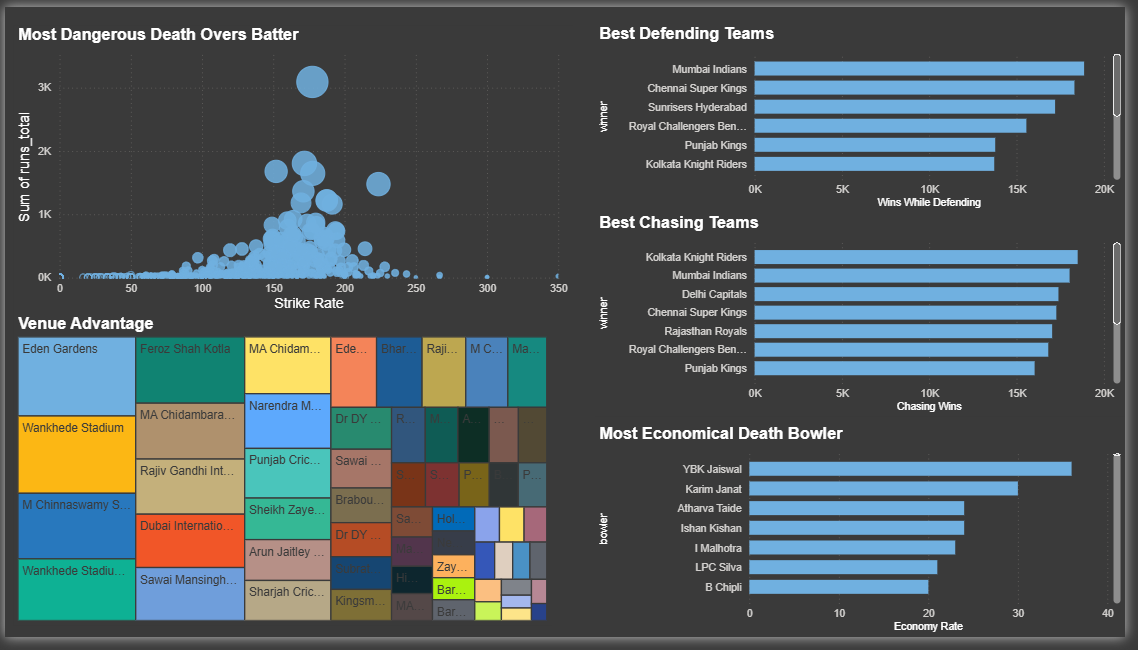

The page's visual inventory and layout, read from the dashboard file:
{"tool":"powerbi","page":{"name":"Hidden Patterns","canvas":[1280,720],"ordinal":5},"visuals":[{"type":"barChart","title":"Best Chasing Teams","fields":{"Y":["IPL_Cleaned.Chasing Wins"],"Category":["IPL_Cleaned.winner"]},"box":[674.2,235.2,605.8,232.3],"z":0},{"type":"treemap","title":"Venue Advantage","fields":{"Values":["CountNonNull(IPL_Cleaned.winner)"],"Group":["IPL_Cleaned.venue"]},"box":[10,352.1,614.3,354.9],"z":1000},{"type":"scatterChart","title":"Most Dangerous Death Overs Batter","fields":{"X":["IPL_Cleaned.Strike Rate"],"Y":["Sum(IPL_Cleaned.runs_total)"],"Size":["IPL_Cleaned.Boundary Count"],"Category":["IPL_Cleaned.batter"]},"box":[10,21.4,638.6,330.7],"z":2000},{"type":"barChart","title":"Most Economical Death Bowler","fields":{"Y":["IPL_Cleaned.Economy Rate"],"Category":["IPL_Cleaned.bowler"]},"box":[674.2,477.5,605.8,242.3],"z":2001},{"type":"barChart","title":"Best Defending Teams","fields":{"Y":["IPL_Cleaned.Wins While Defending"],"Category":["IPL_Cleaned.winner"]},"box":[674.2,20,605.8,215.2],"z":2002}]}

Visuals, with their boxes in screenshot pixels (x1, y1, x2, y2), scaled from the page's 1280x720 canvas onto the 1138x650 screenshot:
"Best Chasing Teams" barChart: [599, 212, 1137, 422]
"Venue Advantage" treemap: [9, 318, 555, 638]
"Most Dangerous Death Overs Batter" scatterChart: [9, 19, 577, 318]
"Most Economical Death Bowler" barChart: [599, 431, 1137, 649]
"Best Defending Teams" barChart: [599, 18, 1137, 212]
